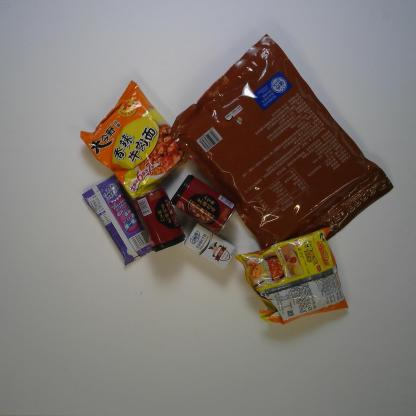Candy: (82, 173, 159, 266)
Canned Food: (170, 174, 238, 235), (132, 187, 186, 253)
Dried Food: (169, 32, 396, 256)
Instant Noodles: (79, 79, 193, 200), (235, 226, 349, 325)
Milk: (184, 222, 237, 270)
